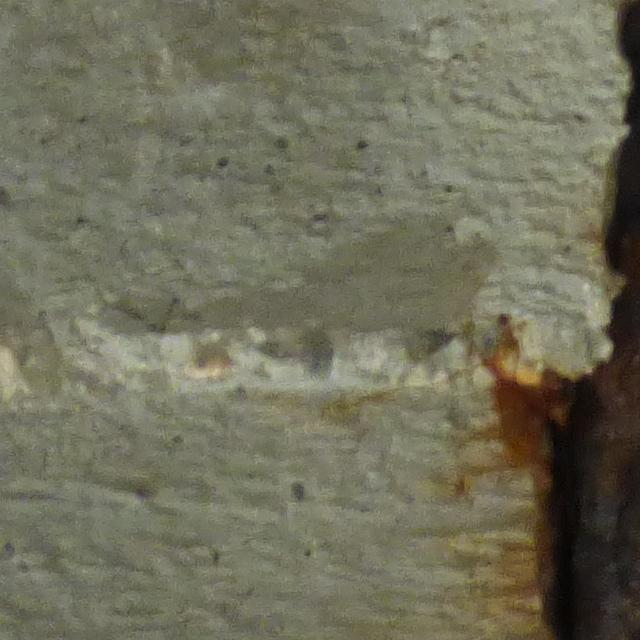Rust: (483, 319, 640, 635)
